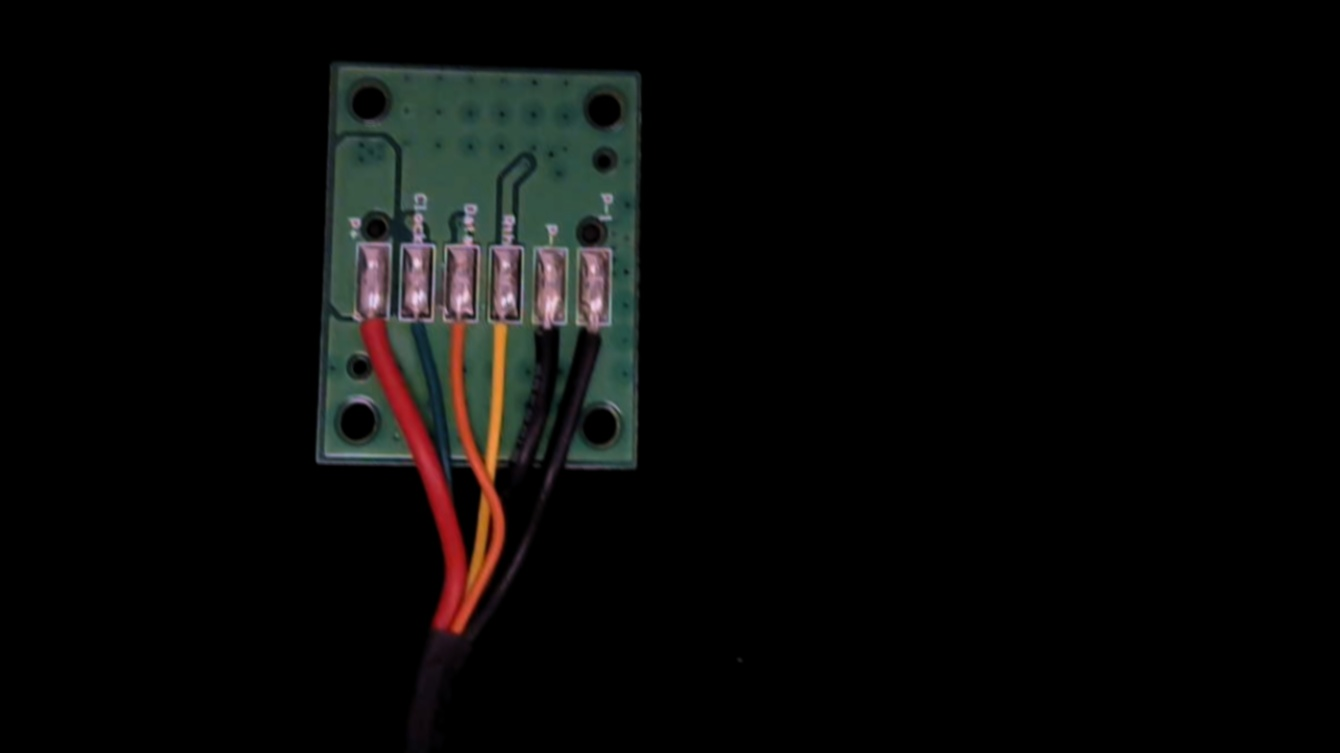Black: (529, 302, 567, 380)
Black1: (571, 301, 612, 387)
Green: (397, 299, 437, 370)
Orange: (440, 301, 472, 377)
Red: (353, 301, 391, 369)
Yellow: (486, 300, 522, 378)
